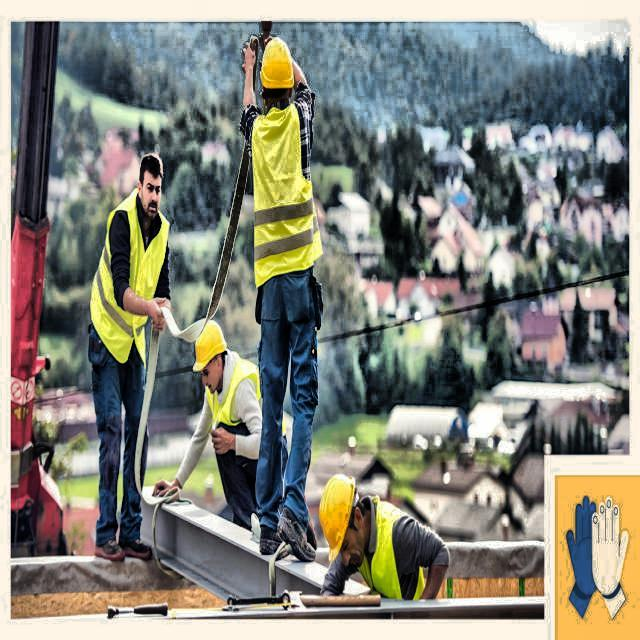person: (241, 29, 328, 570), (90, 138, 173, 565), (313, 468, 454, 600), (186, 308, 256, 520)
